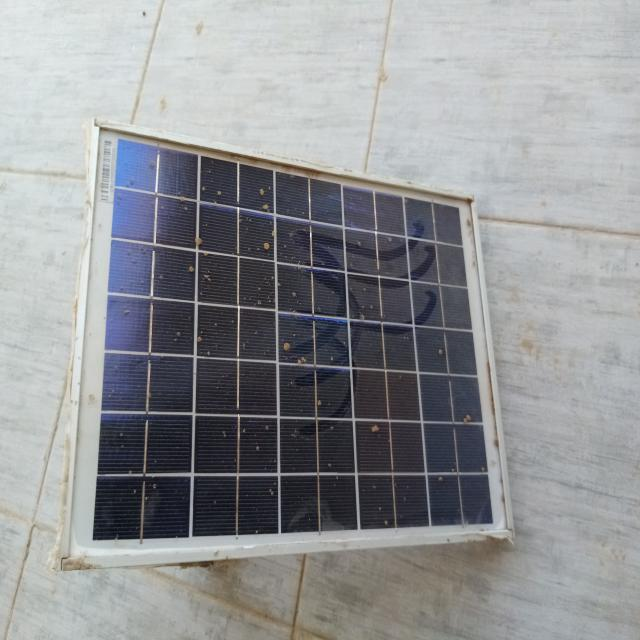faulty: (66, 123, 511, 568)
